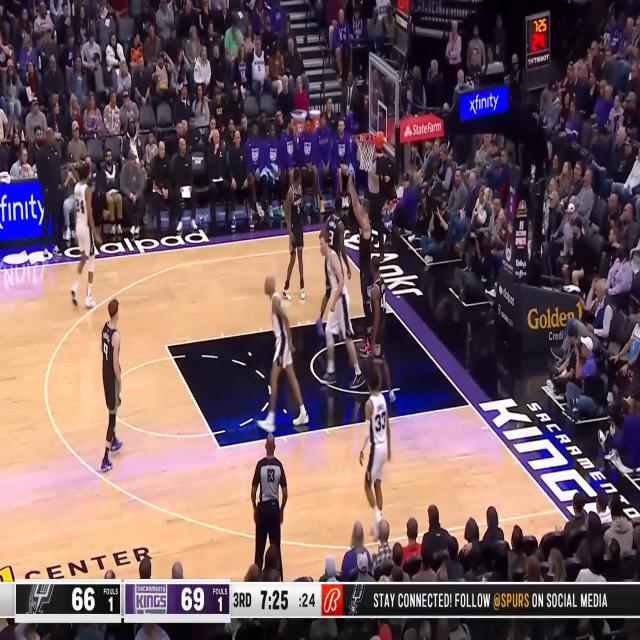Hoop: (356, 132, 378, 171)
Period: (232, 590, 252, 612)
Player: (256, 274, 309, 433), (317, 231, 366, 391), (359, 364, 391, 540), (315, 194, 352, 340), (68, 161, 104, 311), (347, 170, 376, 356), (368, 258, 397, 408), (100, 298, 124, 471), (283, 165, 307, 301)
Ref: (250, 433, 288, 572)
Team Points: (71, 586, 96, 612), (181, 586, 204, 612)
Time Remaining: (259, 586, 290, 614)
